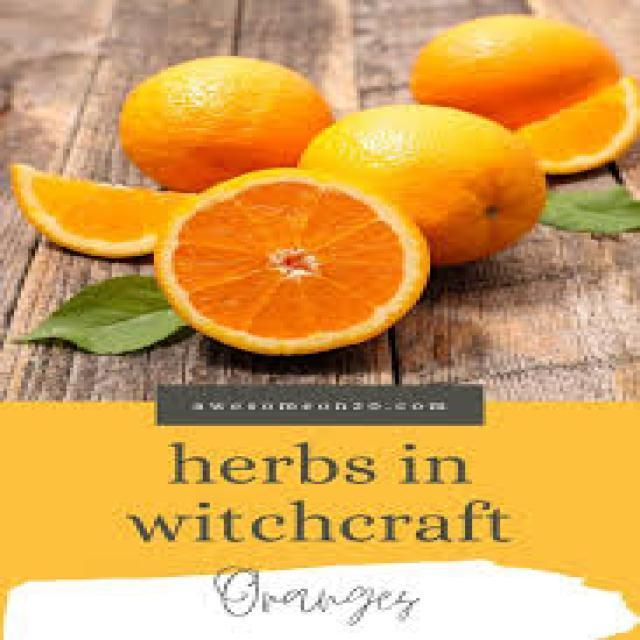Orange: (150, 165, 430, 356), (294, 102, 546, 266), (115, 53, 332, 191), (406, 12, 620, 128)
